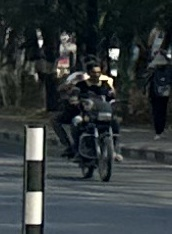BikeWithRider: (49, 51, 126, 184)
NoHelmet: (87, 62, 102, 82)
